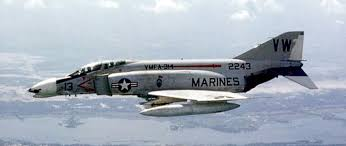fighter: (23, 26, 320, 118)
